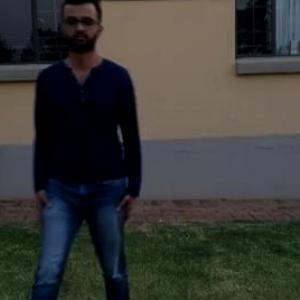follow: (28, 0, 137, 299)
